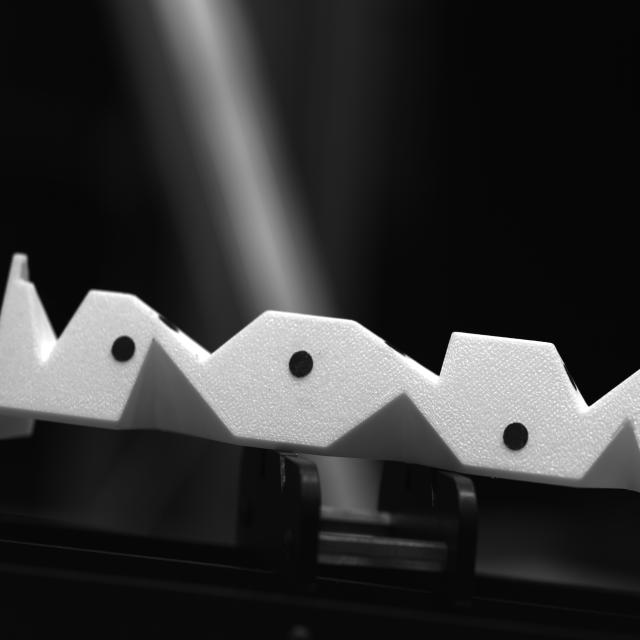circle point: (503, 422, 528, 451), (289, 350, 313, 378), (112, 336, 136, 362)
